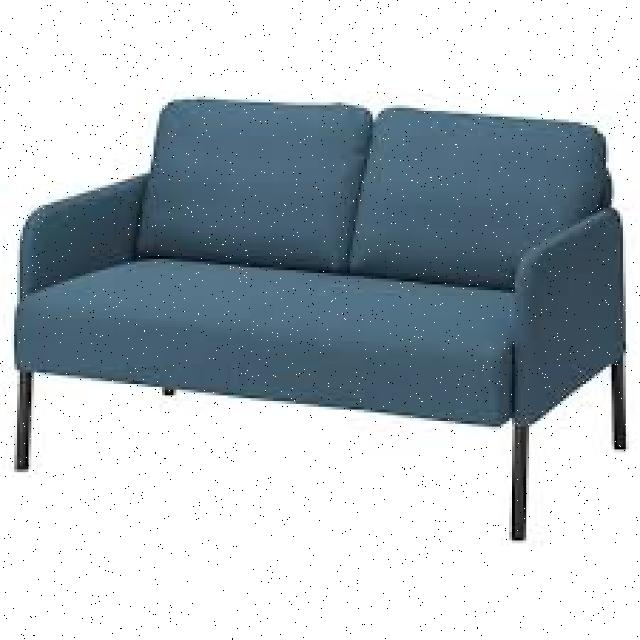Sofa: (2, 81, 638, 570)
